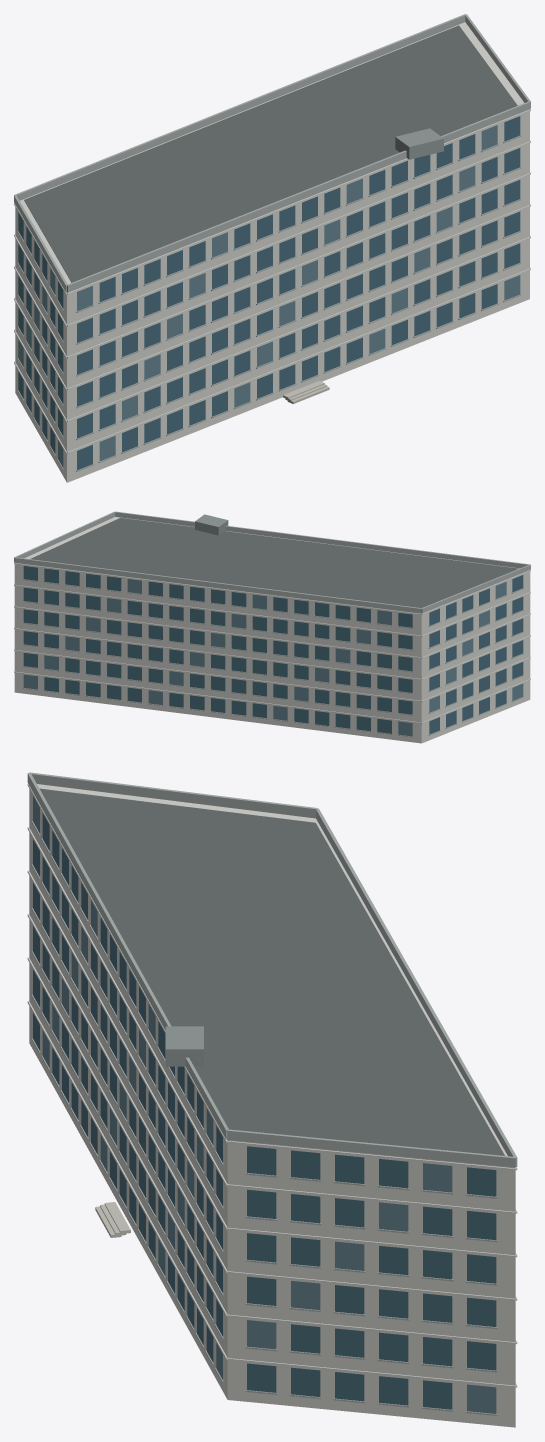
Rendered from 东侧办公园区-017.glb.
The picture shows the model from 3 angles, top to bottom: view 1: azimuth 30°, elevation 25°; view 2: azimuth 150°, elevation 25°; view 3: azimuth 270°, elevation 25°; orthographic projection. The views are drawn at different scales.
Visible parts, largest first — view 1: 东侧办公园区-017; view 2: 东侧办公园区-017; view 3: 东侧办公园区-017.
Boxes of the visible parts, x1,y1,x2,y2 form: 东侧办公园区-017: (14, 14, 530, 482); 东侧办公园区-017: (14, 511, 530, 743); 东侧办公园区-017: (27, 772, 517, 1427).
Bounding box in the file's own units: 66.69 × 22.42 × 35.76.
